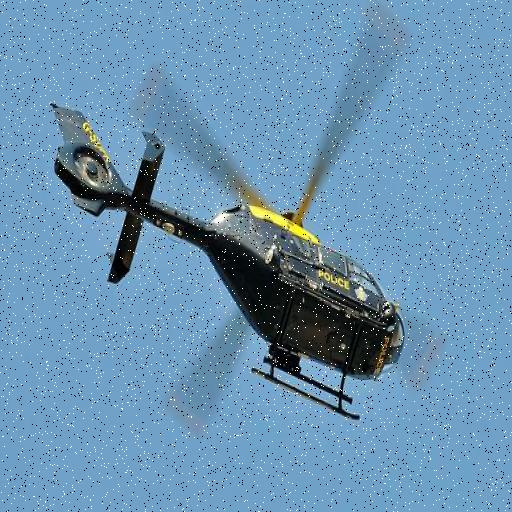helicopter: (42, 12, 458, 458)
